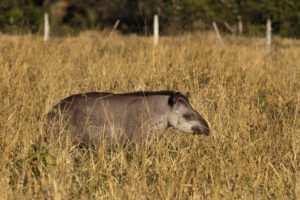Anta: (43, 85, 212, 146)
